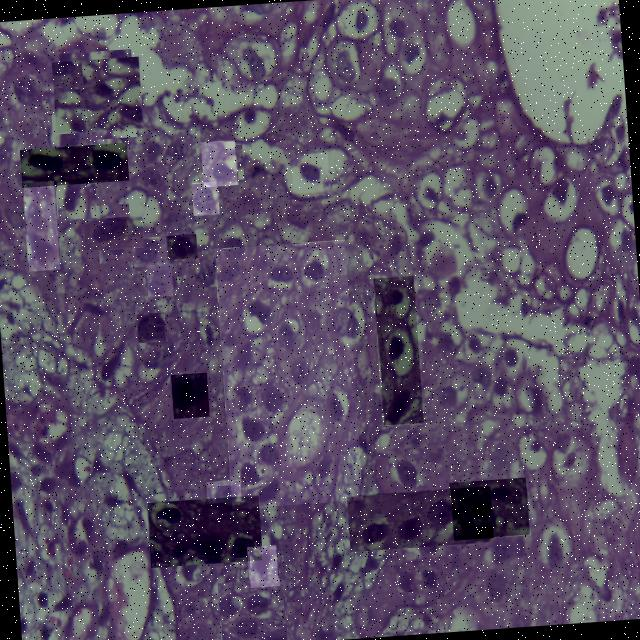Multiple Nucleol: (132, 237, 166, 267), (192, 183, 219, 216), (147, 265, 172, 297), (207, 480, 241, 503), (196, 254, 219, 287), (138, 313, 165, 341), (167, 235, 196, 258)
Nuclear Hyperchromatism: (223, 242, 347, 507), (349, 489, 492, 550), (148, 501, 261, 563), (53, 60, 142, 128), (378, 277, 415, 424), (451, 479, 527, 536), (20, 145, 127, 182), (220, 580, 285, 640), (27, 181, 59, 270), (85, 217, 143, 250), (172, 374, 209, 418), (202, 142, 237, 185), (292, 154, 329, 194), (248, 546, 278, 587)
